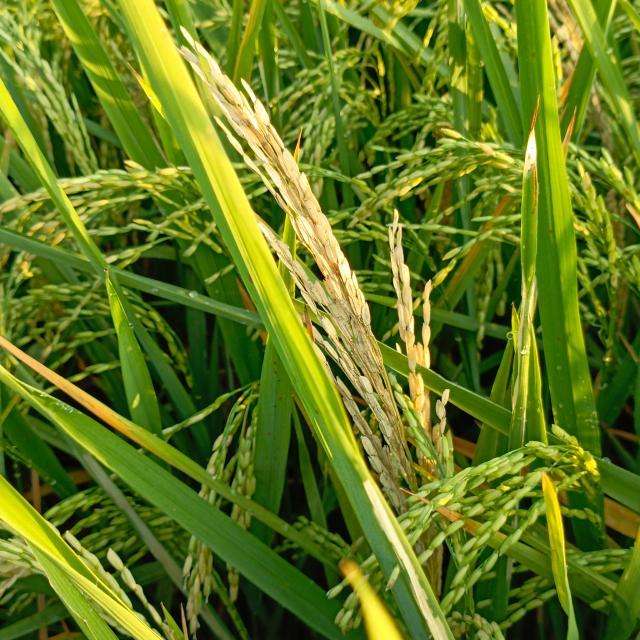Brown spot: (0, 324, 146, 449), (400, 485, 484, 538)
insects: (271, 357, 280, 378), (272, 394, 284, 408), (312, 407, 321, 418), (267, 430, 272, 436)
